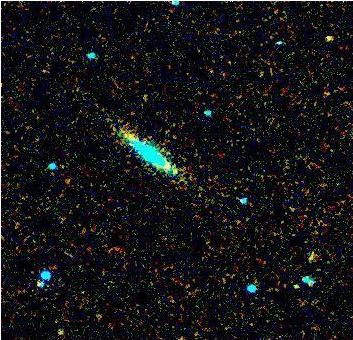star: (306, 22, 336, 52)
